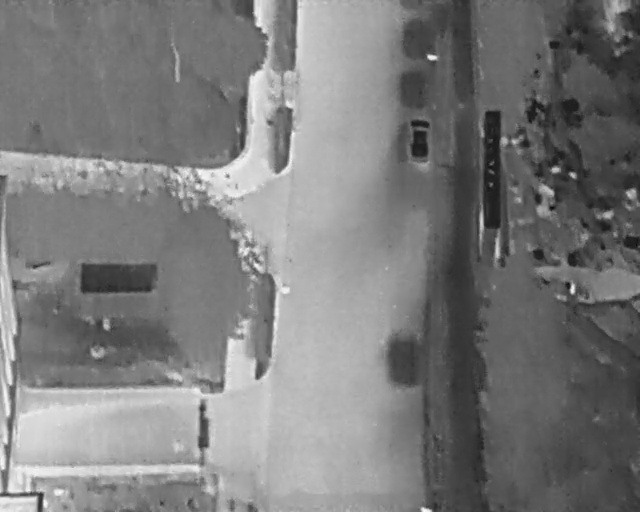Car: (407, 117, 431, 163)
